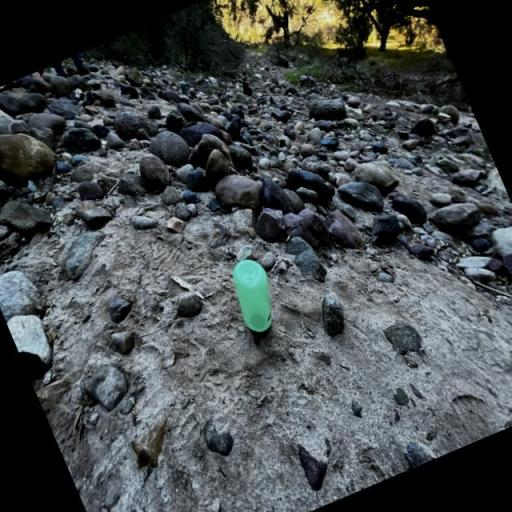bottle: (222, 252, 290, 346), (178, 80, 189, 94), (38, 68, 44, 76)
